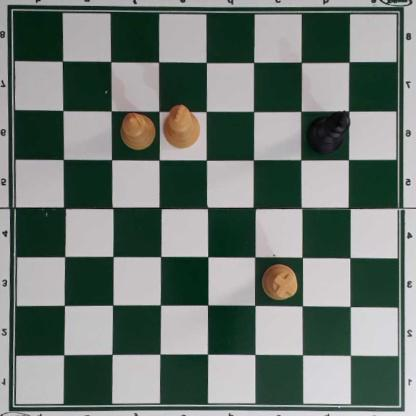black-king: (307, 112, 350, 152)
white-bishop: (122, 111, 157, 148)
white-king: (162, 103, 201, 149)
white-rook: (262, 264, 299, 300)
